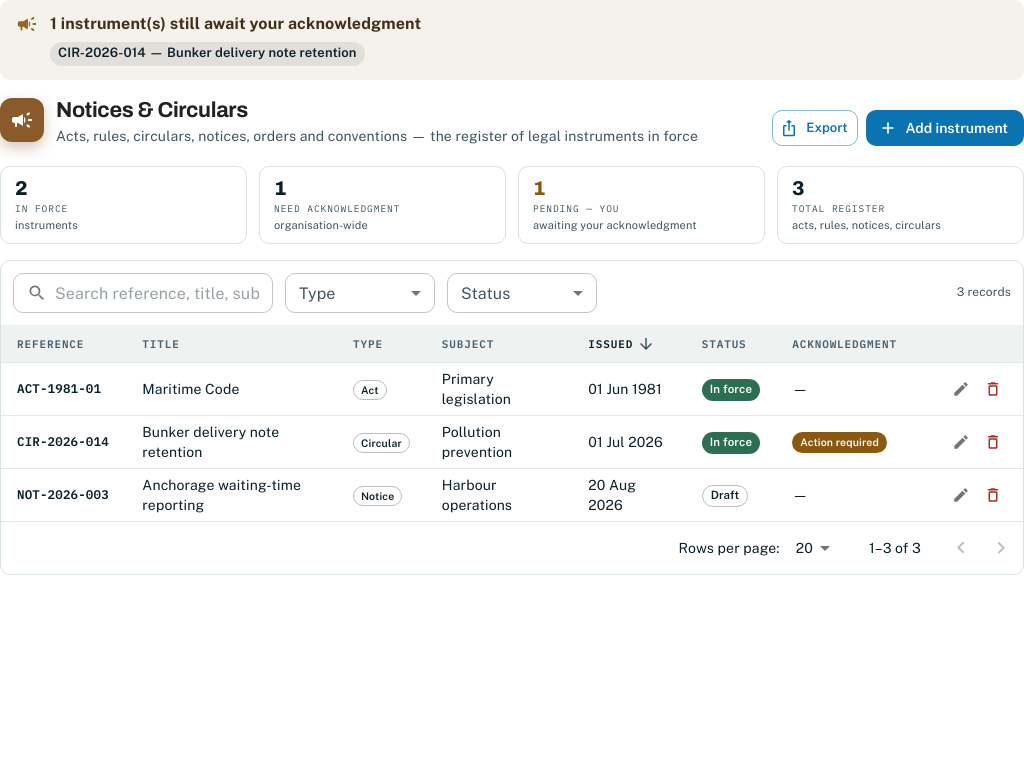
Test case: Notices & Circulars register › opens an instrument and records this reader’s acknowledgment
Click the text "Bunker delivery note retention". click: click(232, 442)
box: [126,416,337,469]
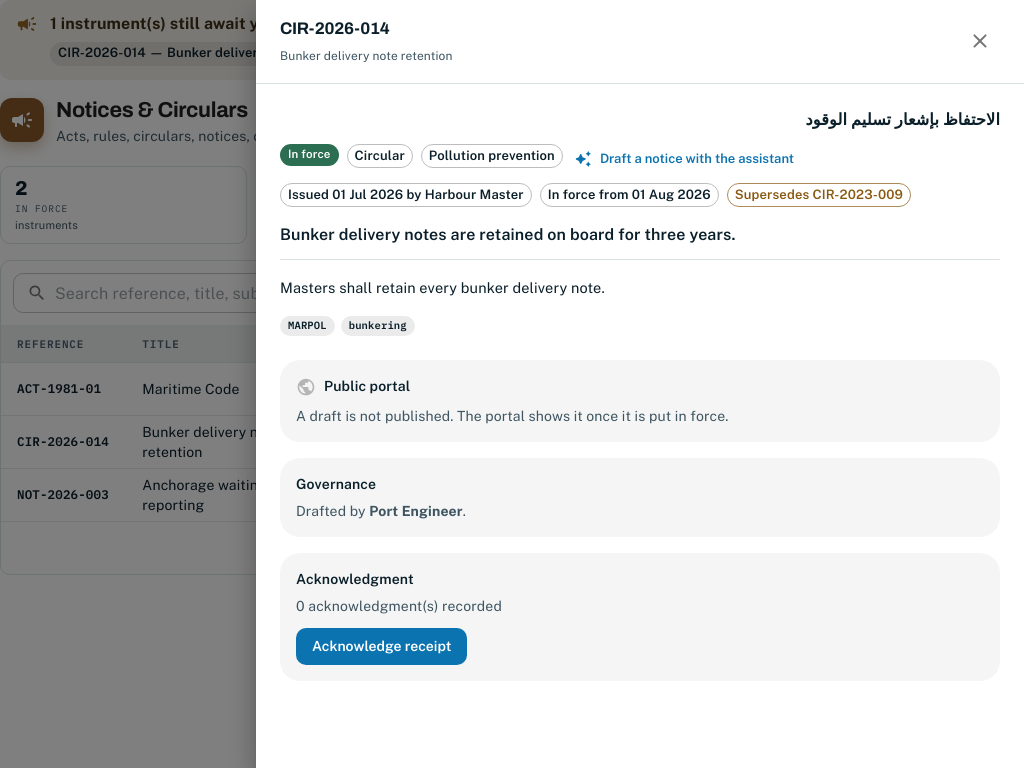
Result: the heading "CIR-2026-014" is shown at [280,19,389,38]
Result: the text "الاحتفاظ بإشعار تسليم الوقود" is shown at [806,110,1000,129]
Result: the text "Bunker delivery notes are retained on board for three years." is shown at [280,225,736,244]
Click the button "Acknowledge receipt". click: click(382, 646)
box: [296,628,467,664]
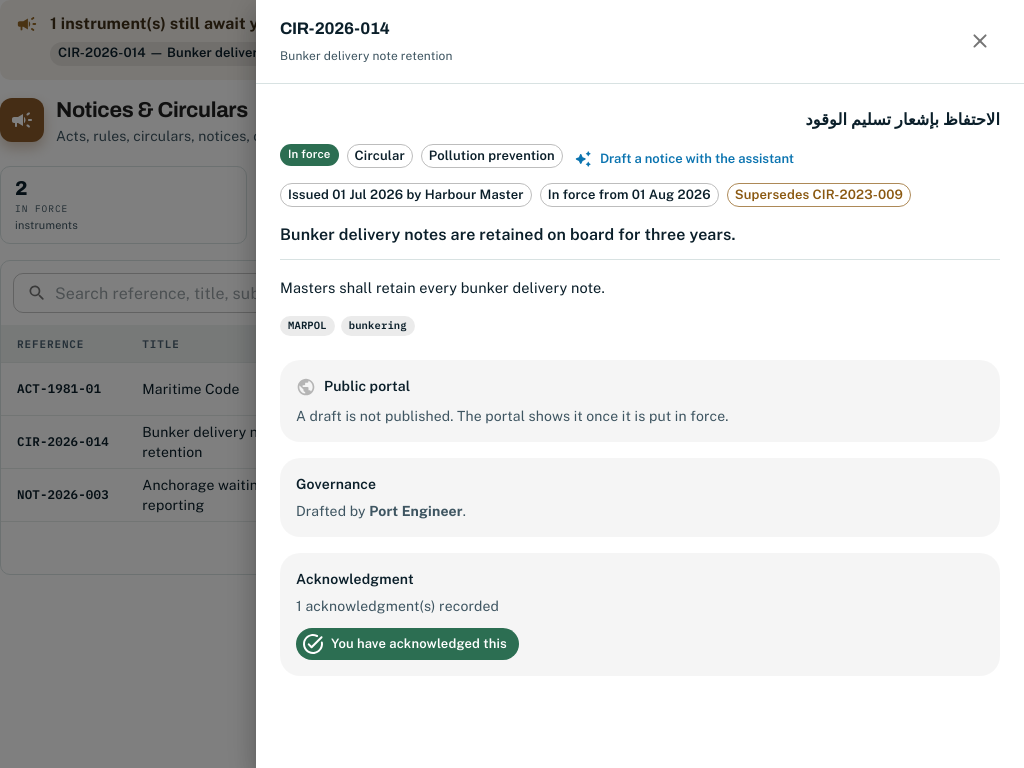
Result: the text "You have acknowledged this" is shown at [319,634,519,654]
